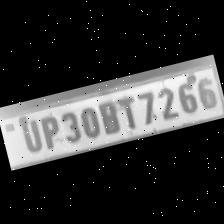0: (73, 102, 102, 140)
2: (150, 83, 180, 123)
3: (54, 105, 82, 145)
6: (192, 70, 219, 110), (172, 78, 200, 116)
7: (132, 88, 160, 128)
D: (93, 97, 123, 137)
P: (36, 110, 64, 150)
T: (113, 92, 142, 132)
U: (14, 114, 44, 154)
